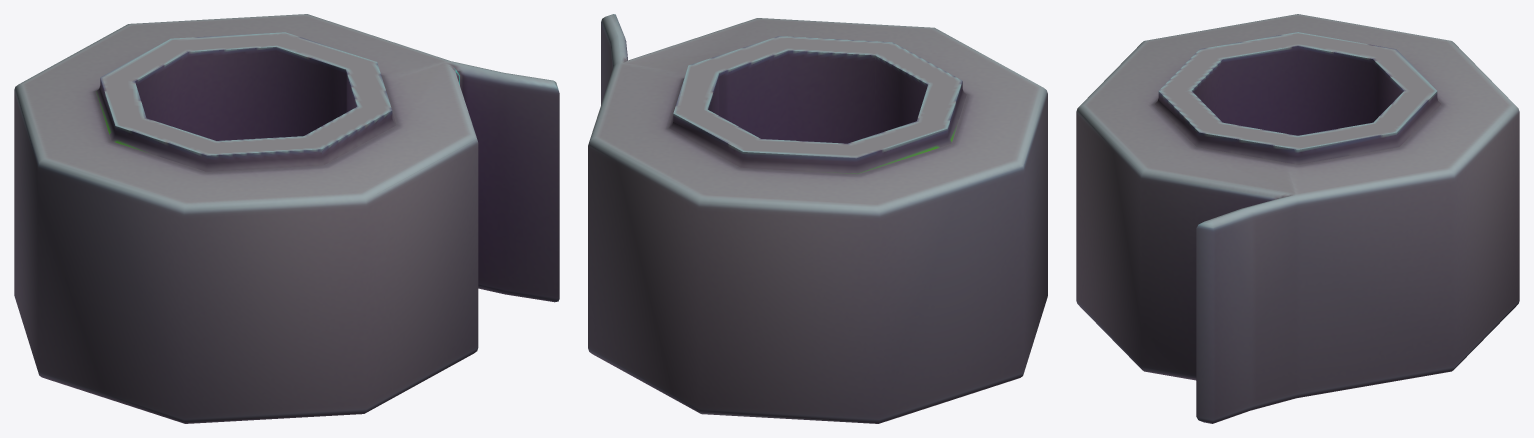
File: SilverTape.fbx
3 renders of one model, left to right at view 1: azimuth 30°, elevation 25°; view 2: azimuth 150°, elevation 25°; view 3: azimuth 270°, elevation 25°, orthographic. The views are drawn at different scales.
Visible parts, largest first — view 1: SilverTape; view 2: SilverTape; view 3: SilverTape.
Boxes of the visible parts, x1,y1,x2,y2 form: SilverTape: (14,14,559,423); SilverTape: (588,14,1047,423); SilverTape: (1076,14,1519,423).
Bounding box in the file's own units: 0.2291 × 0.1157 × 0.2015.
